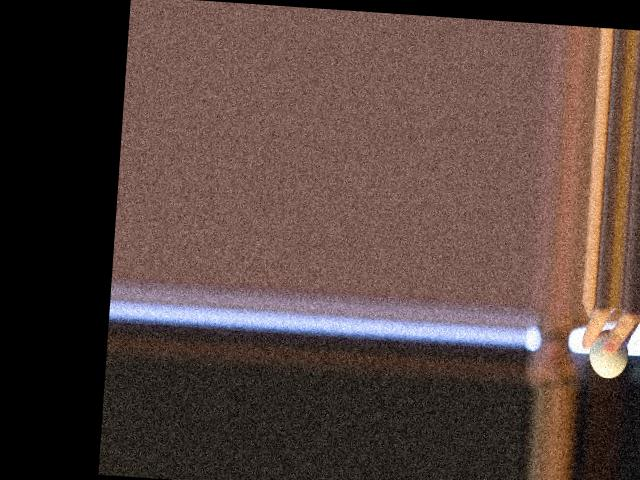egg: (586, 327, 629, 379)
